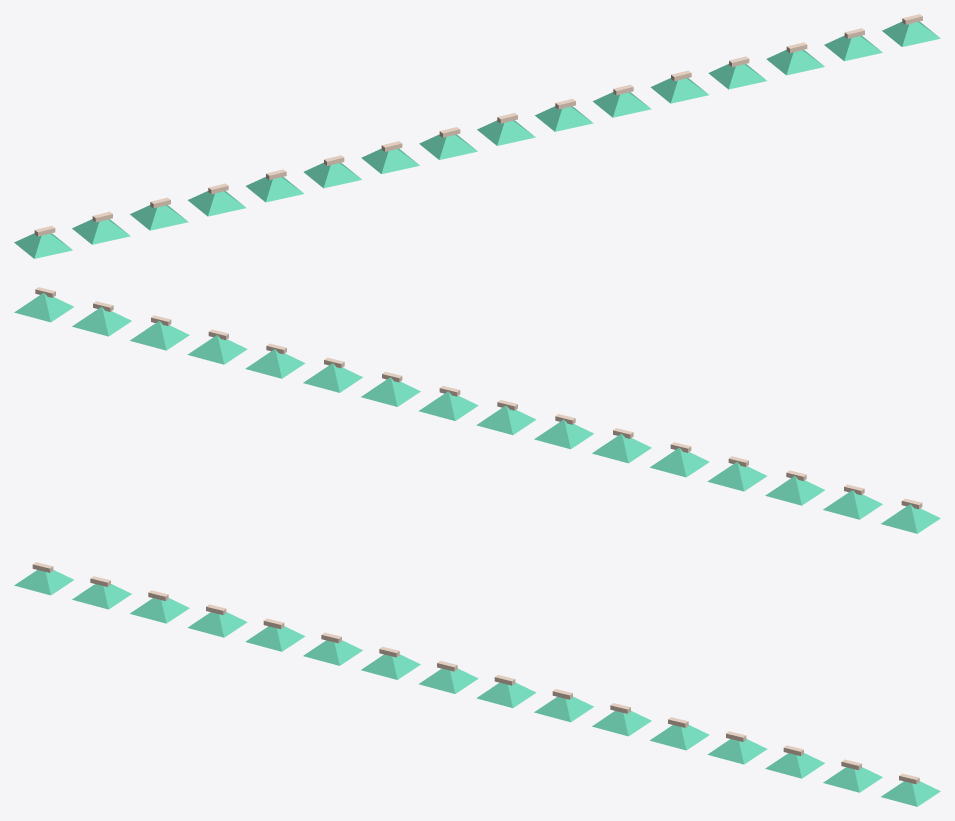
Rendered from waves.glb.
The picture shows the model from 3 angles, top to bottom: view 1: azimuth 30°, elevation 25°; view 2: azimuth 150°, elevation 25°; view 3: azimuth 330°, elevation 25°; orthographic projection.
Visible parts, largest first — view 1: W15, W2, W7, W10, W0, W1, W3, W9, W12, W14, W4, W5 (+4 smaller); view 2: W2, W7, W8, W3, W5, W9, W10, W12, W14, W0, W11, W1 (+4 smaller); view 3: W3, W7, W14, W15, W4, W5, W8, W10, W11, W13, W1, W2 (+4 smaller).
Boxes of the visible parts, x1,y1,x2,y2 form: W15: (882,21,940,46); W2: (130,205,188,230); W7: (419,134,477,159); W10: (593,92,651,117); W0: (14,233,72,258); W1: (72,219,130,244); W3: (188,191,245,216); W9: (535,106,593,131); W12: (708,64,766,89); W14: (824,35,882,61); W4: (246,177,303,202); W5: (304,162,361,188); W2: (765,476,824,505); W7: (476,405,536,434); W8: (418,391,478,420); W3: (707,462,766,491); W5: (592,434,651,463); W9: (361,377,420,406); W10: (303,363,362,392); W12: (187,335,247,364); W14: (72,307,131,336); W0: (881,504,940,533); W11: (245,349,305,378); W1: (823,490,882,519); W3: (187,612,247,637); W7: (418,668,478,693); W14: (823,767,882,792); W15: (881,781,940,806); W4: (245,626,305,651); W5: (303,640,362,665); W8: (476,682,536,707); W10: (592,711,651,736); W11: (650,725,709,750); W13: (765,753,824,778); W1: (72,584,131,609); W2: (130,598,189,623).
Size of the model in its own units: 19.61 by 0.38 by 0.8557.
